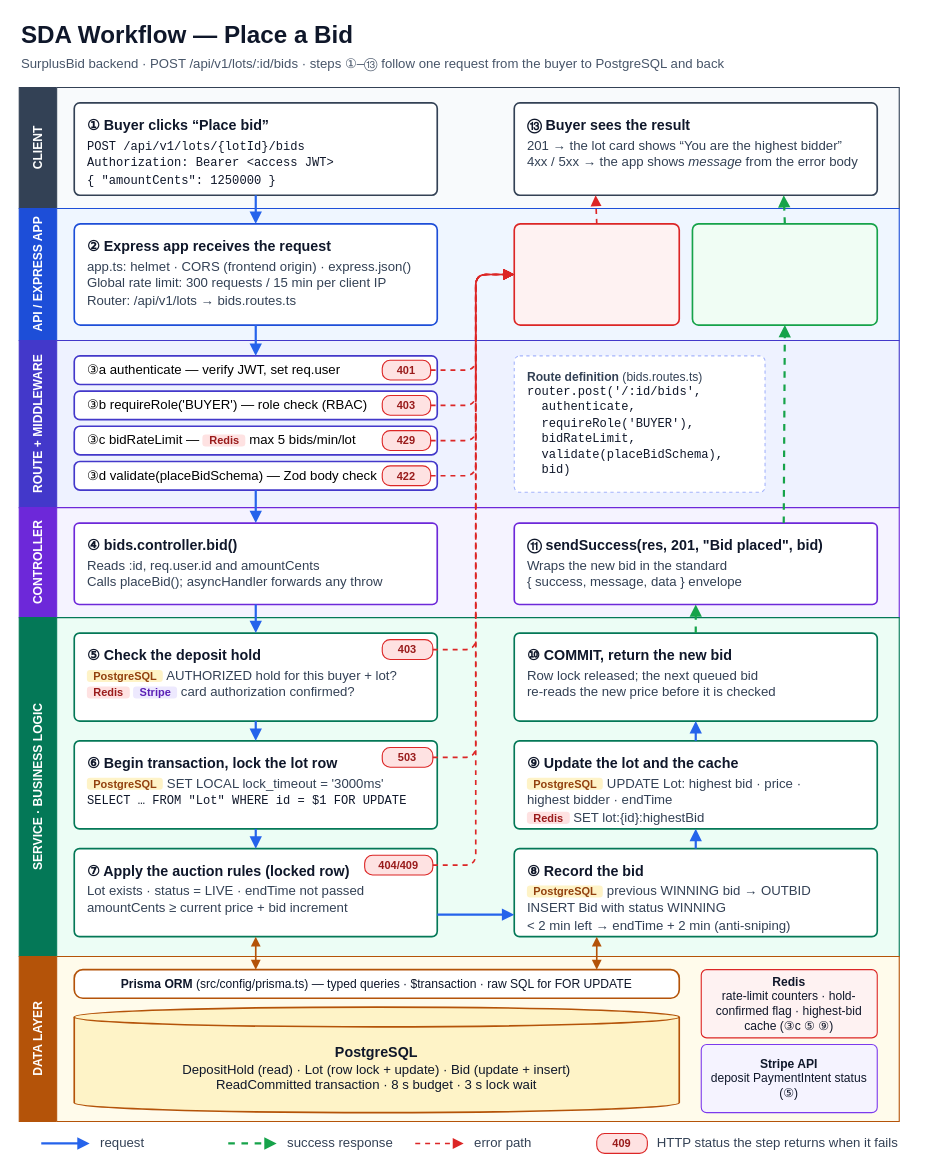
This 938x1173 diagram has some shape labels left out. The shapes that lost their labels are listed below. From the top down, each one's centre as x and y in pixels, then its label:
the point at 596,274: errorHandler ApiError / Prisma error → { success: false, message, errors }
the point at 784,274: ⑫ HTTP 201 Created { success: true, message: "Bid placed", data: bid }
